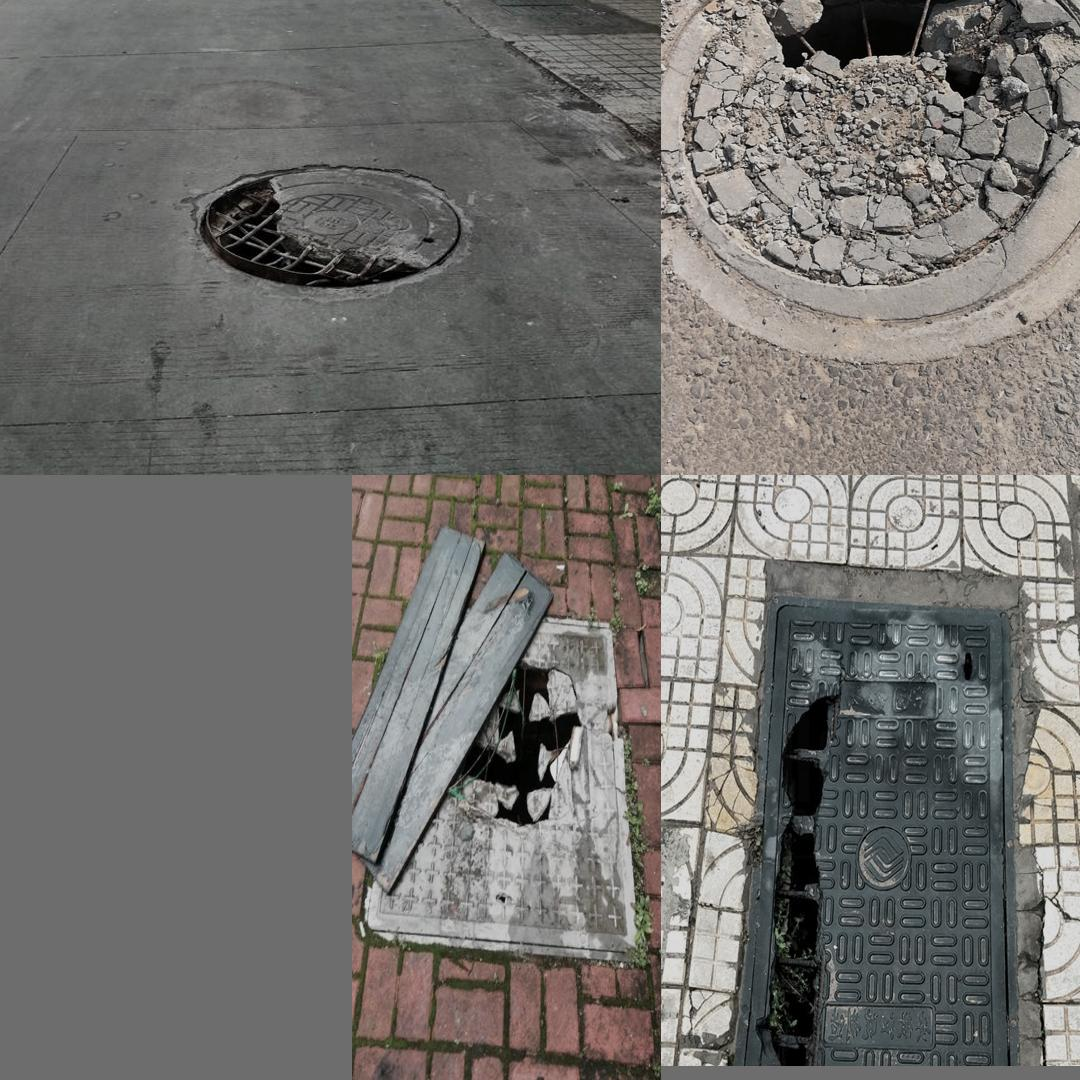broke: (661, 0, 1080, 362), (732, 592, 1017, 1064), (358, 583, 638, 969), (147, 136, 513, 326)
